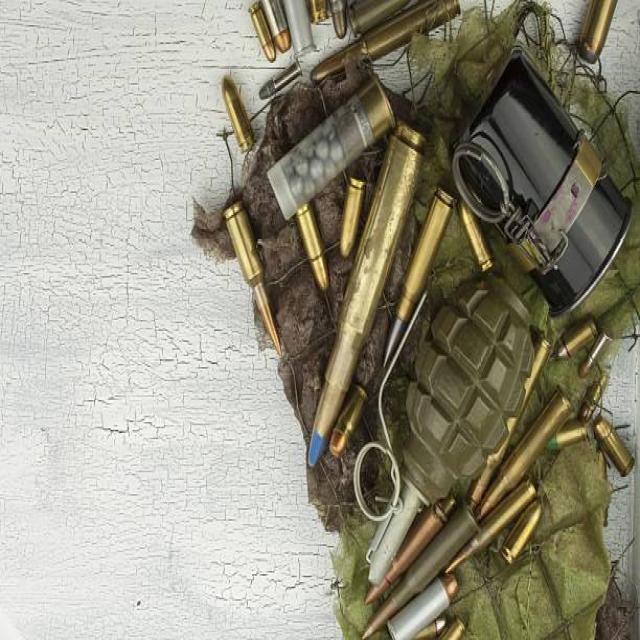grenade: (351, 266, 544, 587)
